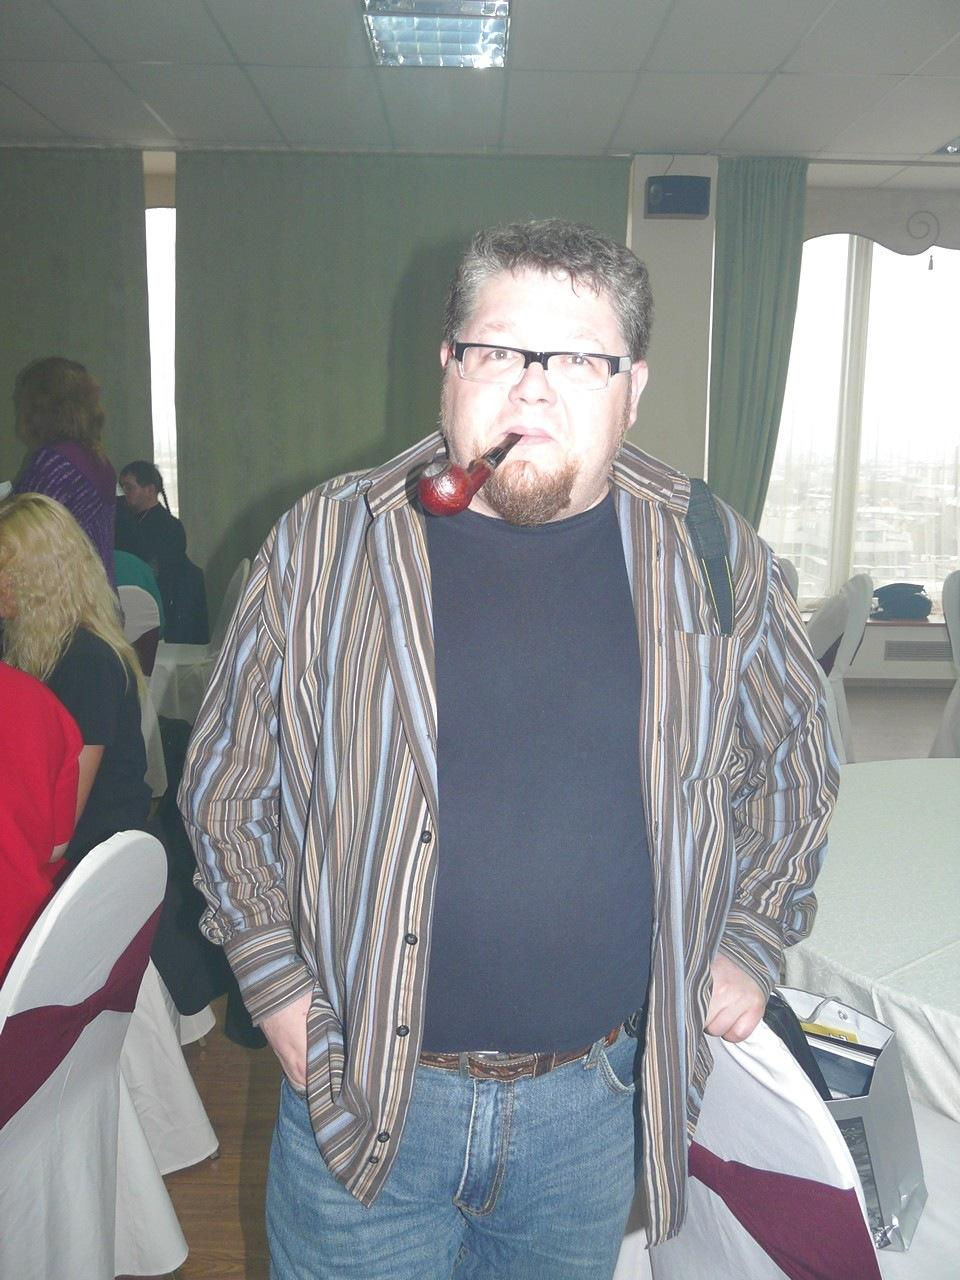trubka: (416, 434, 520, 517)
